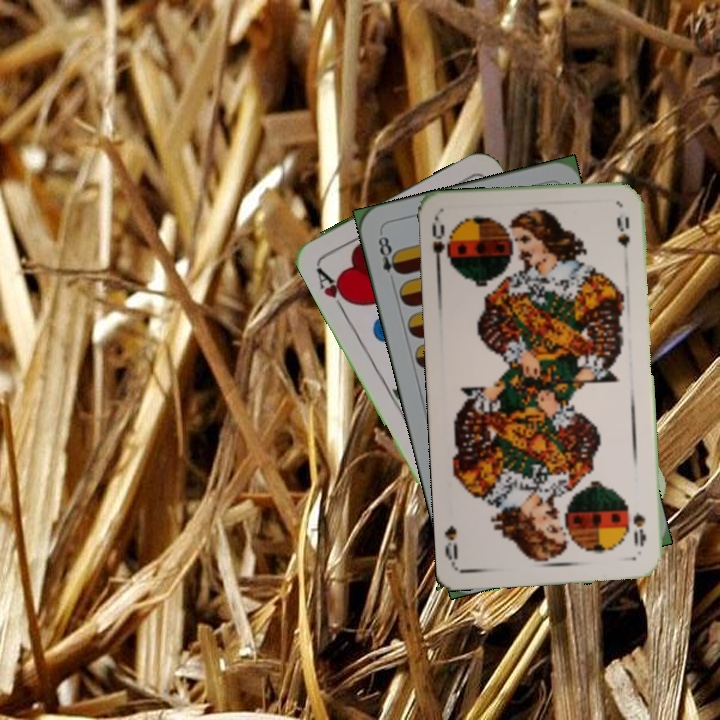E8: (374, 229, 404, 277)
HA: (312, 261, 354, 315)
SO: (427, 215, 454, 274), (629, 508, 649, 549)
